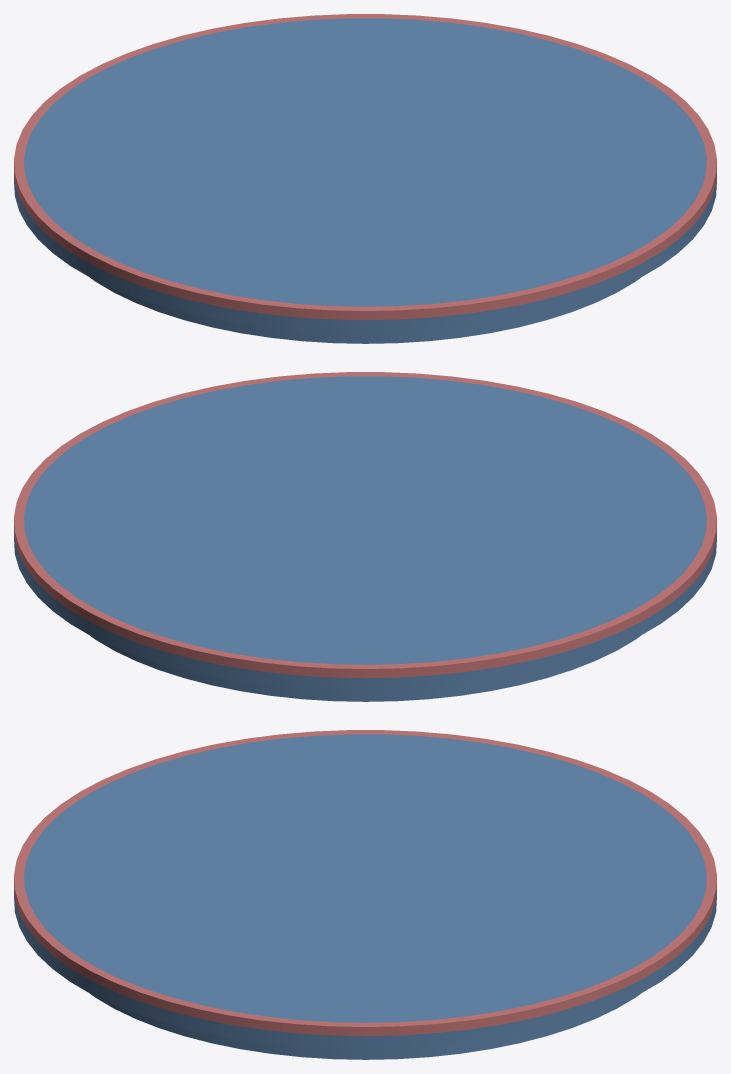
File: step_02.glb
3 views of the same model, one above another, from view 1: azimuth 30°, elevation 25°; view 2: azimuth 150°, elevation 25°; view 3: azimuth 270°, elevation 25° (orthographic).
Parts seen in each view (by area): view 1: part__pod cap, removed__pod cap; view 2: part__pod cap, removed__pod cap; view 3: part__pod cap, removed__pod cap.
Part boxes in pixels (x1,y1,x2,y2): part__pod cap: (14, 18, 716, 343); removed__pod cap: (14, 14, 716, 320); part__pod cap: (14, 376, 716, 701); removed__pod cap: (14, 372, 716, 678); part__pod cap: (14, 734, 716, 1059); removed__pod cap: (14, 730, 716, 1036).
Size of the model in its own units: 69.96 by 5 by 69.98.
